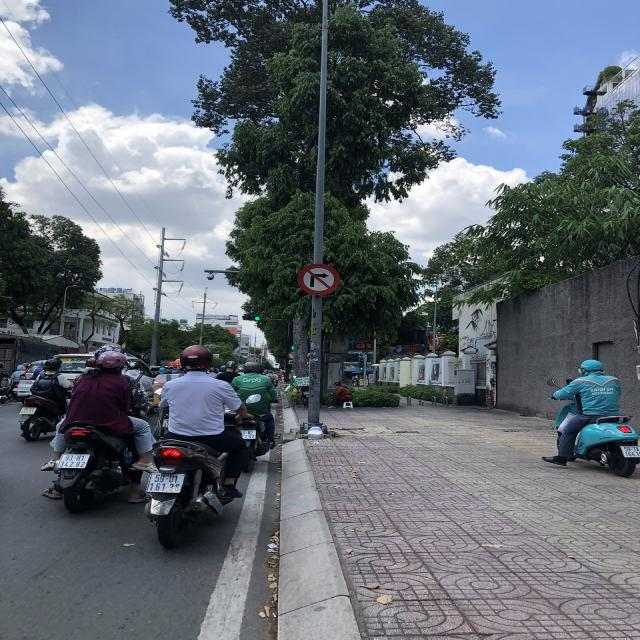Bien bao cam re phai: (294, 262, 343, 298)
